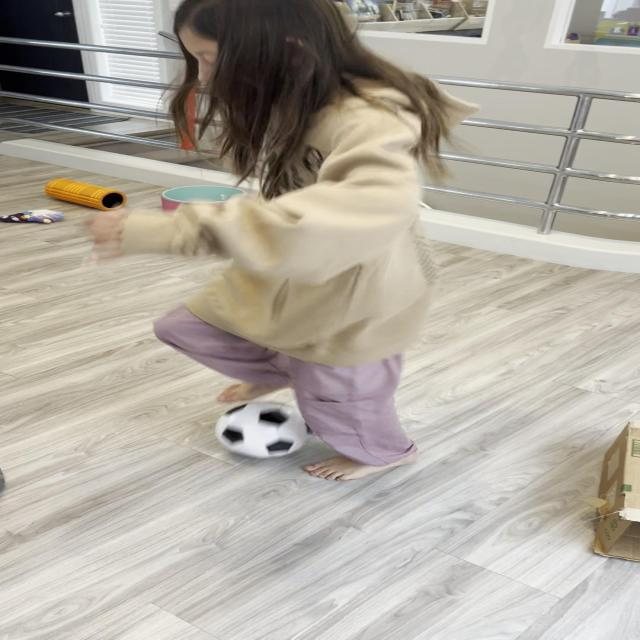Soccer Ball: (216, 401, 314, 458)
